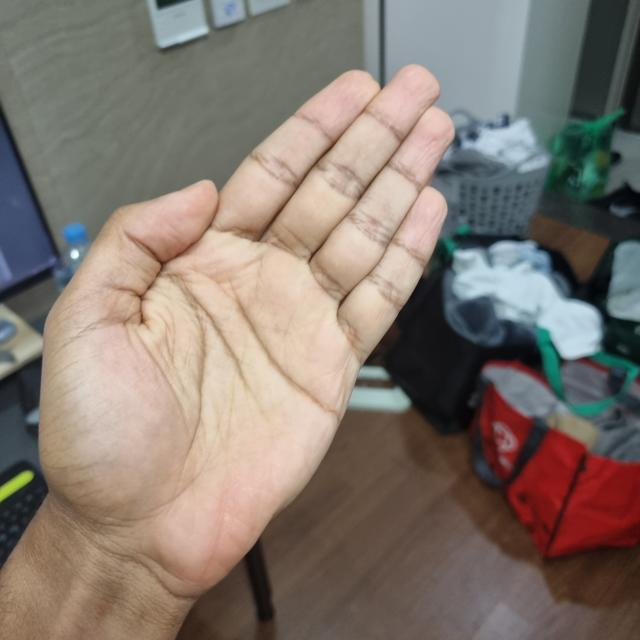Paper: (38, 66, 457, 578)
